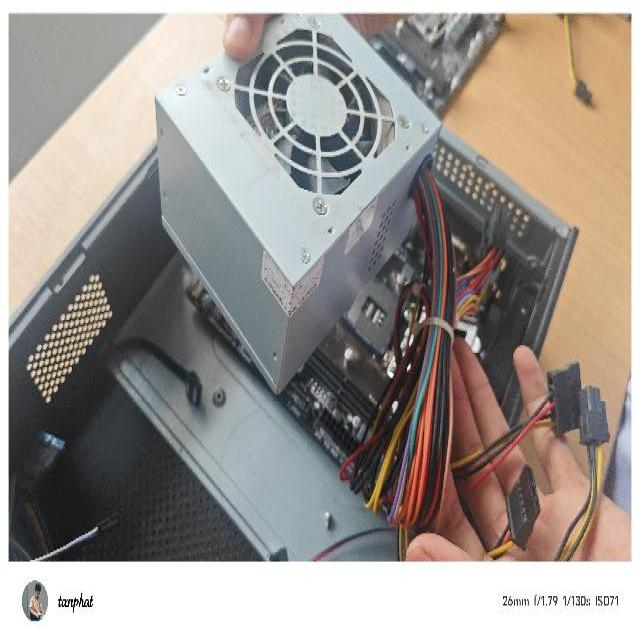PSU: (154, 12, 443, 398)
